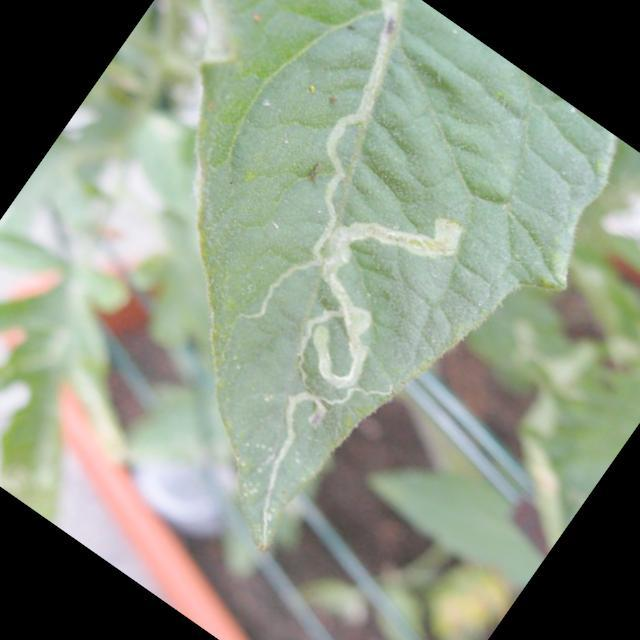Tomato target spot leaf: (191, 0, 617, 555)
